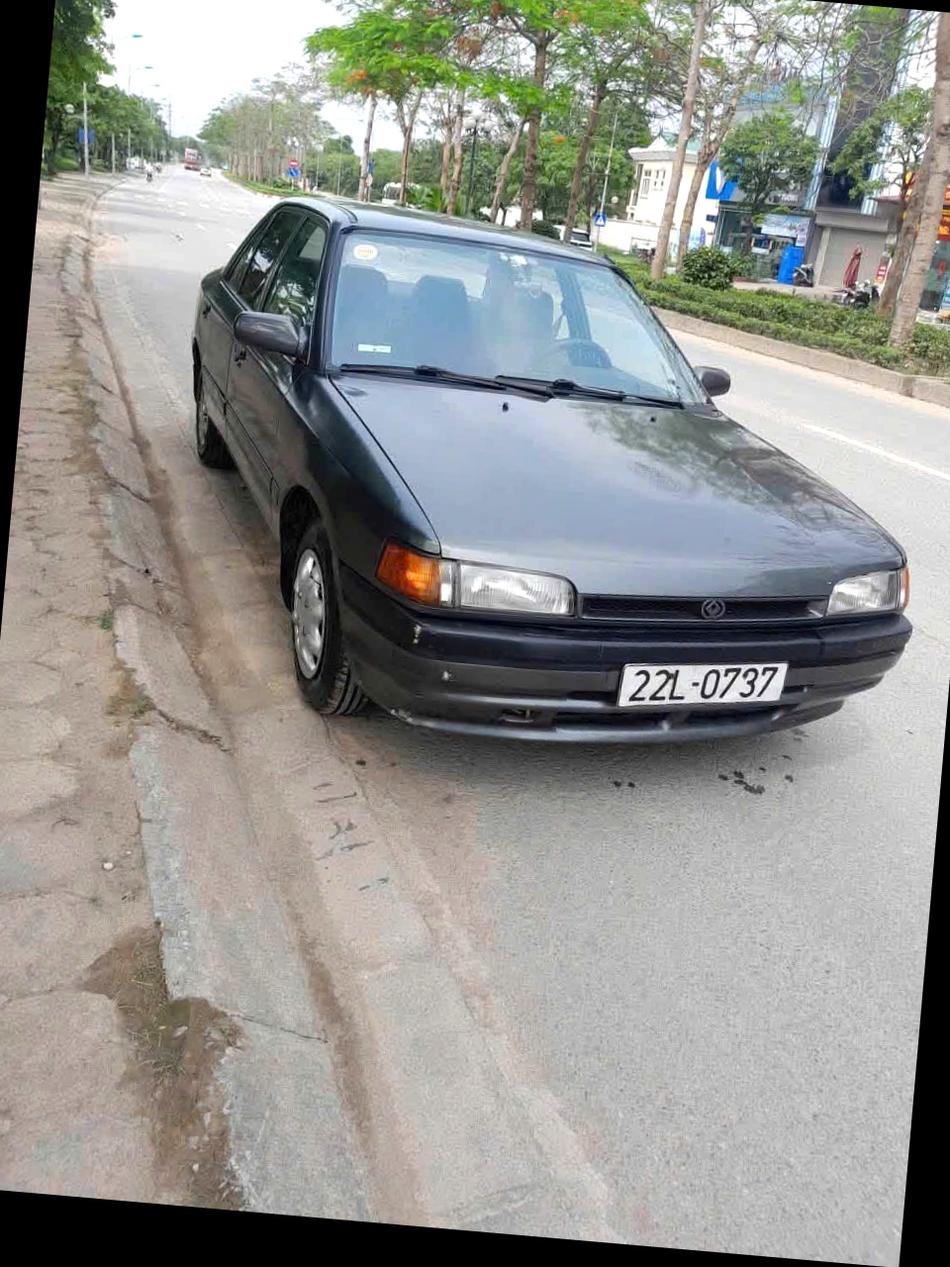Bien-so: (621, 659, 795, 725)
